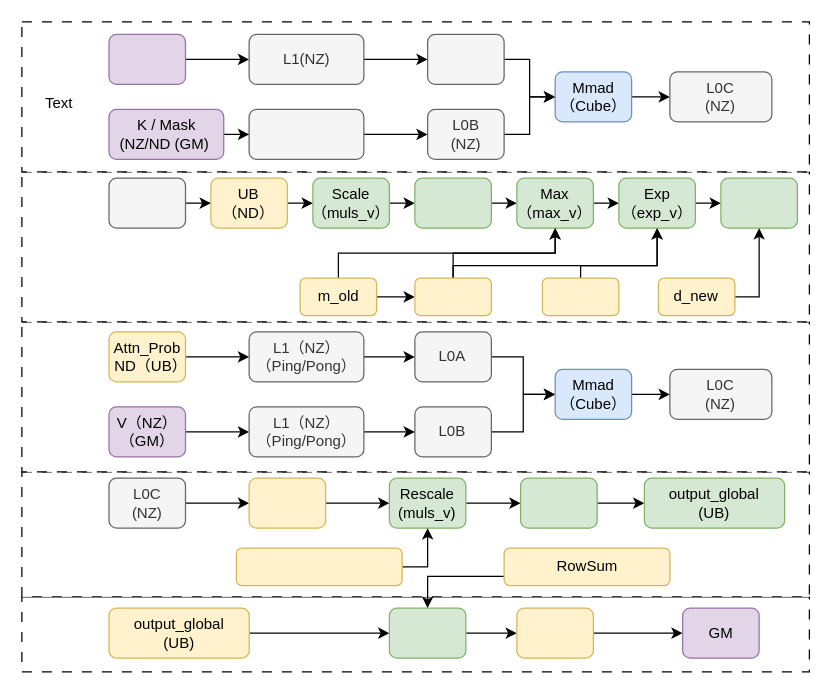
Some shapes in this 831 by 694 pixel diagram are drawn without their labels. The shapes that lost their labels are listed below. From the top down, each one's centre as x and y in pixels, then its label:
At (x=147, y=58): "Q(NZ) (GM)".
At (x=465, y=58): "L0A (NZ)".
At (x=306, y=133): "L1(NZ) (Ping/Pong)".
At (x=147, y=202): "L0C （NZ）".
At (x=452, y=202): "Mask （add_v）".
At (x=758, y=202): "RowSum （cadd_v）".
At (x=452, y=296): "m_new".
At (x=580, y=296): "d_old".
At (x=287, y=502): "UB (ND)".
At (x=558, y=502): "Add (add_v)".
At (x=318, y=566): "exp(m_old-m_new)".
At (x=427, y=632): "Div (div_v)".
At (x=554, y=632): "UB".
